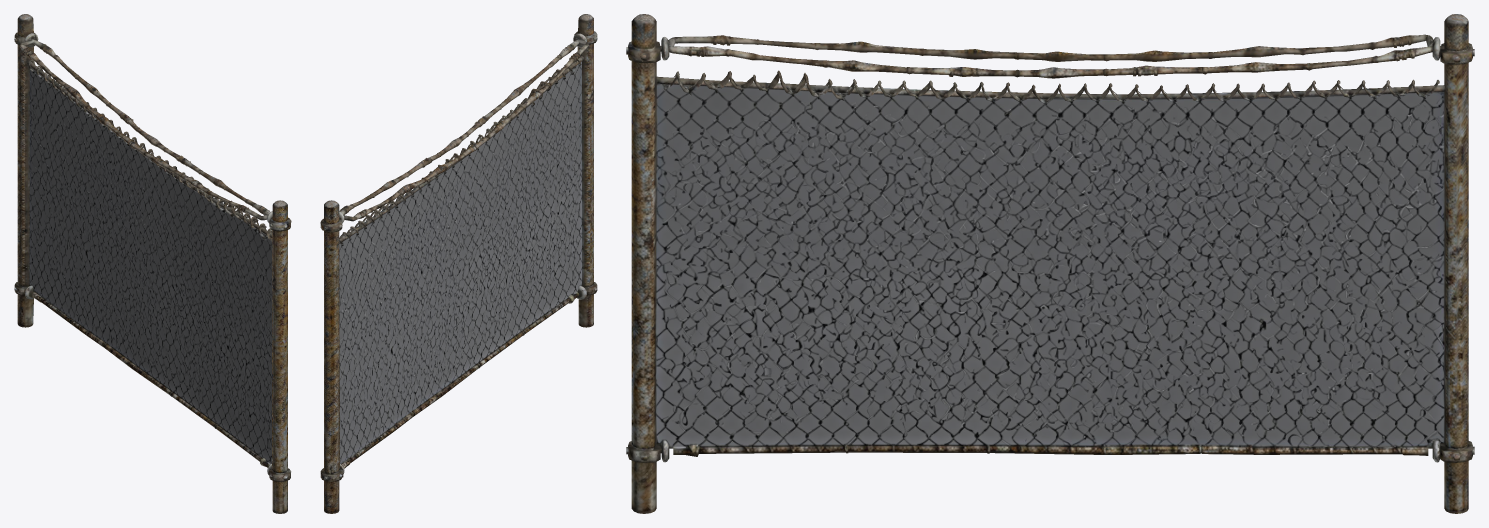
File: jt_chainlink.glb
3 views of the same model, side by side, from view 1: azimuth 30°, elevation 25°; view 2: azimuth 150°, elevation 25°; view 3: azimuth 270°, elevation 25° (orthographic). The views are drawn at different scales.
Parts seen in each view (by area): view 1: tripo_7b85cd15_a0d4_4093_b56b_9c2e455cdc38; view 2: tripo_7b85cd15_a0d4_4093_b56b_9c2e455cdc38; view 3: tripo_7b85cd15_a0d4_4093_b56b_9c2e455cdc38.
Boxes of the visible parts, left/top/right/bottom form: tripo_7b85cd15_a0d4_4093_b56b_9c2e455cdc38: left=14, top=14, right=291, bottom=513; tripo_7b85cd15_a0d4_4093_b56b_9c2e455cdc38: left=320, top=14, right=597, bottom=513; tripo_7b85cd15_a0d4_4093_b56b_9c2e455cdc38: left=626, top=14, right=1474, bottom=513.
Bounding box in the file's own units: 0.0659 × 0.6401 × 0.9995.
1 material, 1 textured.
